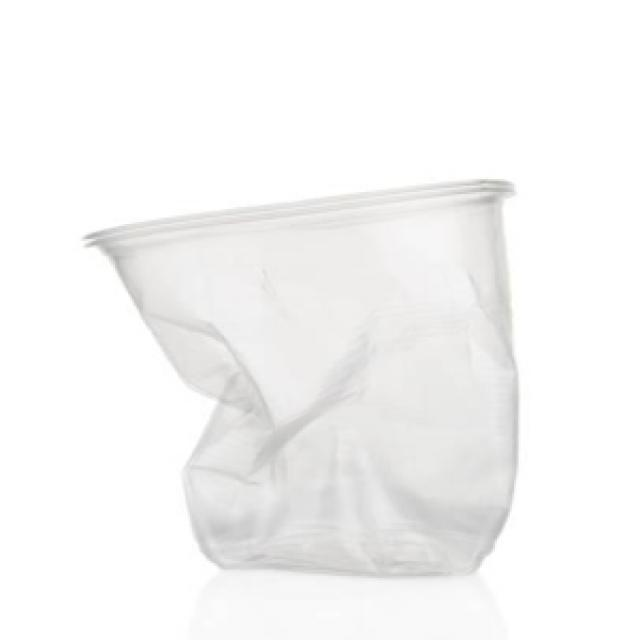plastic cup: (79, 170, 533, 586)
